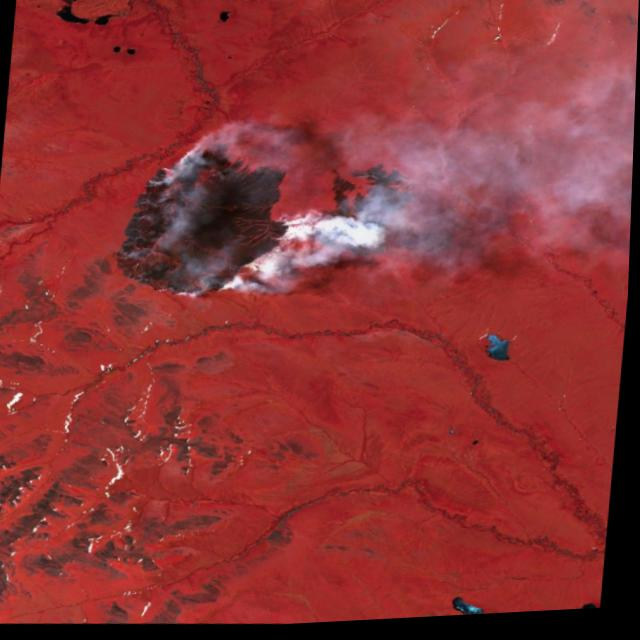fire: (108, 131, 307, 311), (311, 210, 397, 271), (344, 161, 390, 189)
